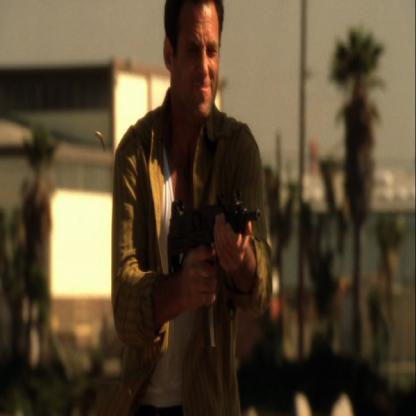Guns: (164, 187, 262, 320)
